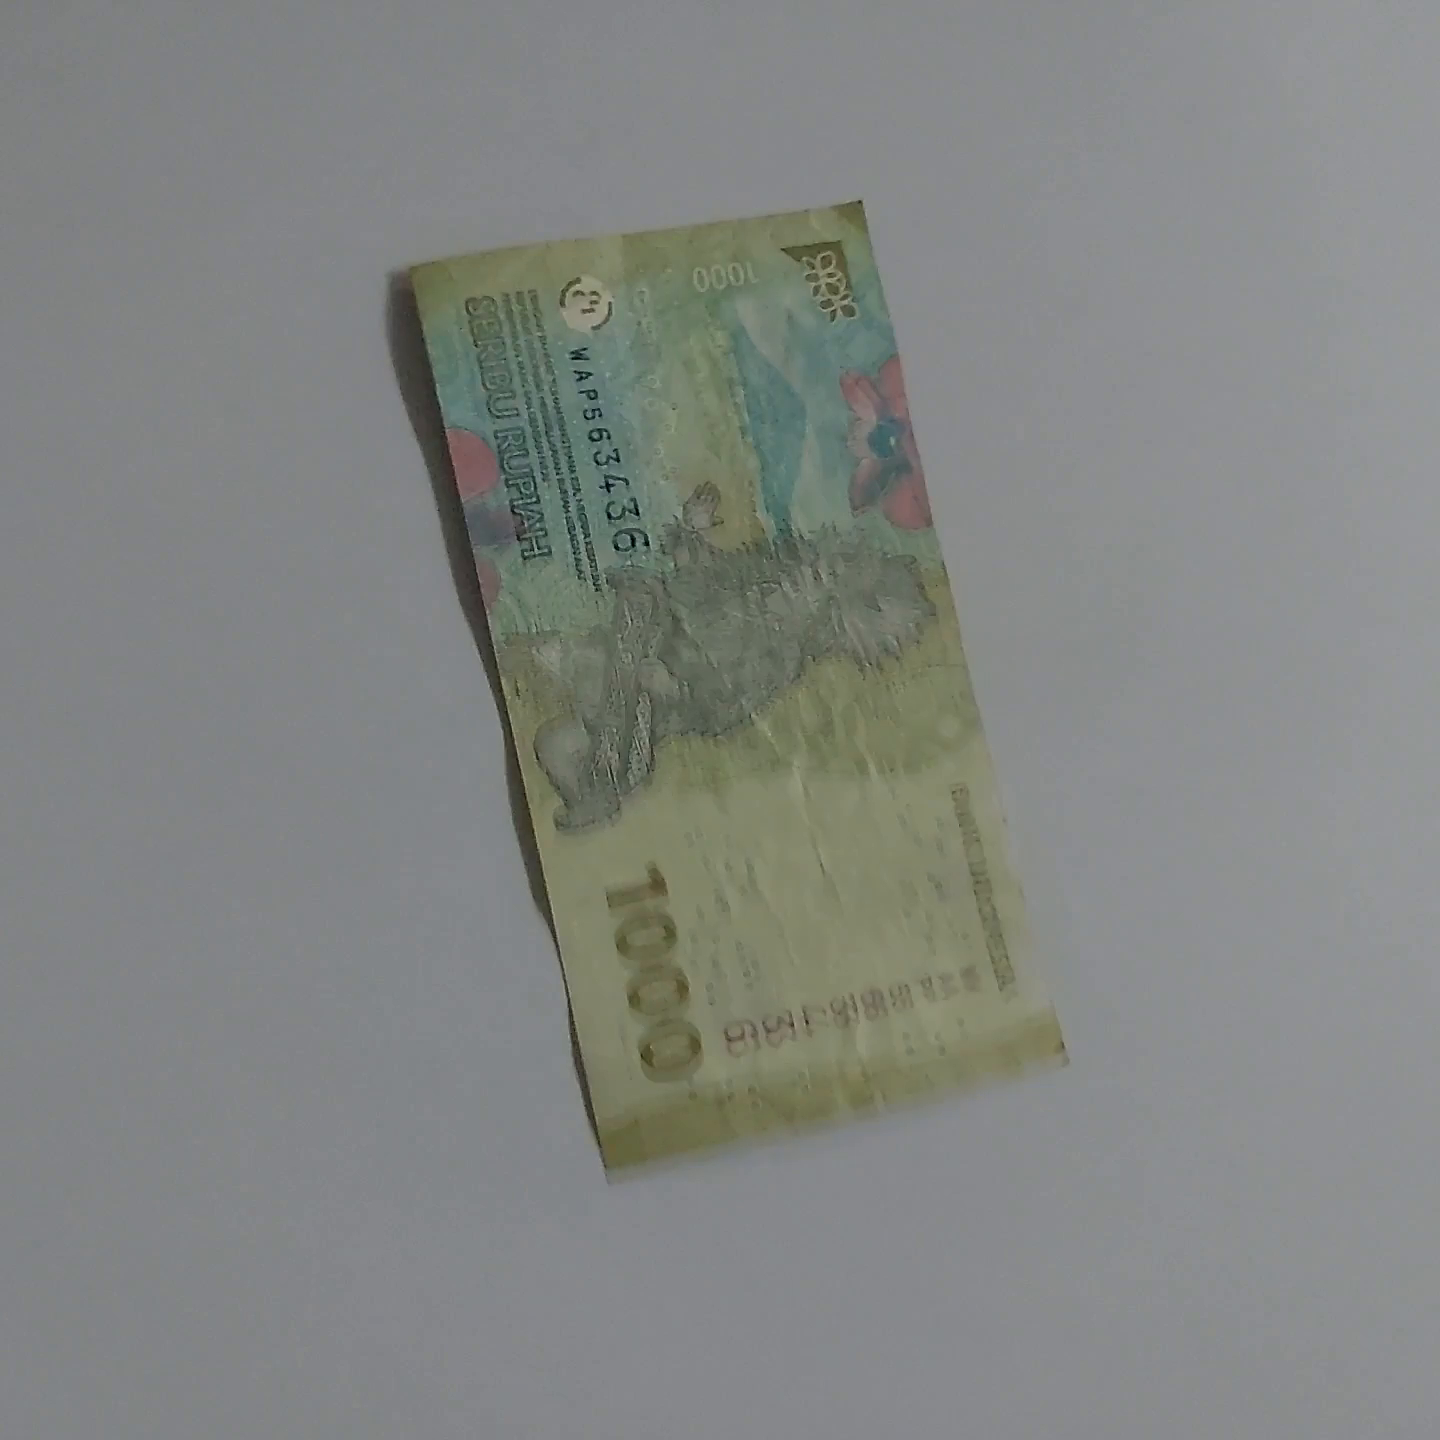1k: (353, 207, 1096, 1101)
